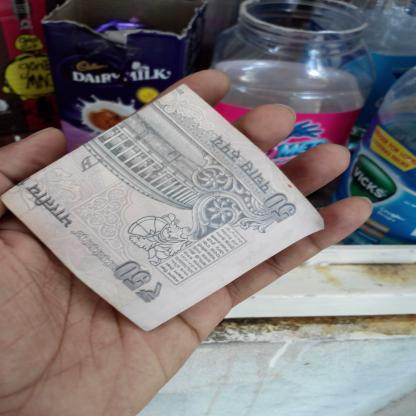Old50Back: (0, 82, 327, 331), (5, 98, 7, 99)
